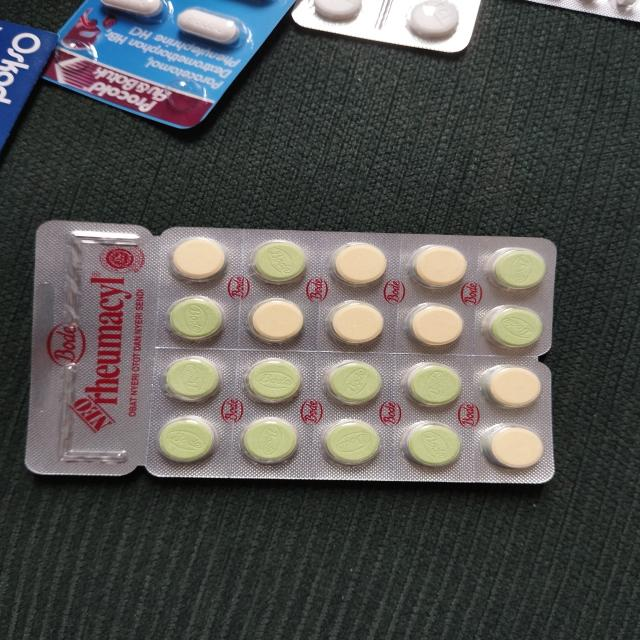B3: (22, 222, 557, 485)
